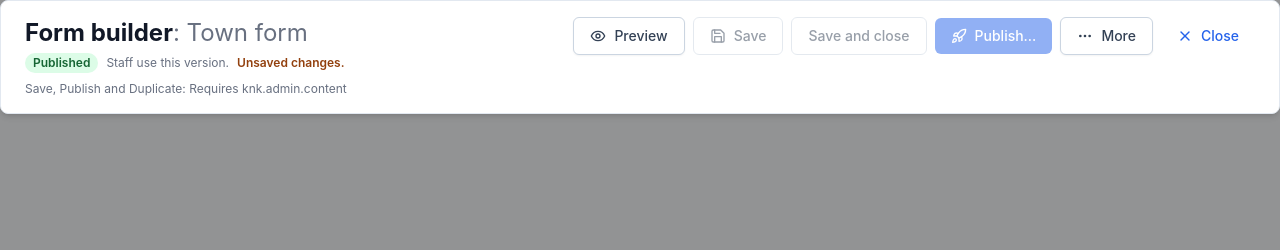
Test: a missing write node disables the writes with the node, once
This screenshot has width=1280, height=250.
Expected: the button "Save" is disabled, left=693, top=17, right=784, bottom=55
Expected: the button "Preview" is enabled, left=573, top=17, right=685, bottom=55
Click the button "More" at (1107, 36), box left=1060, top=17, right=1153, bottom=55
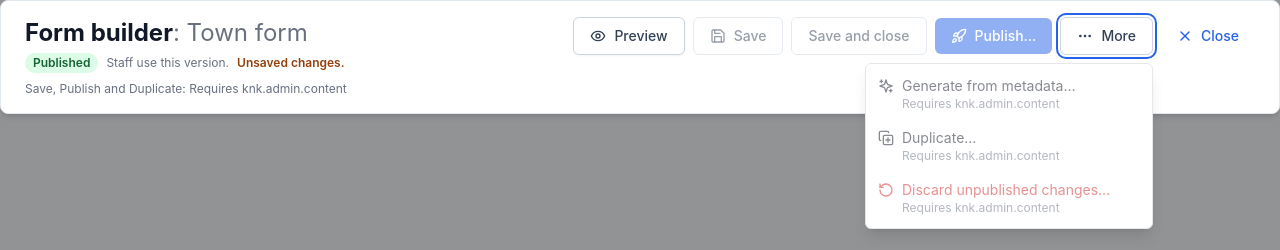
Expected: the menu item "Duplicate… Requires knk.admin.content" is disabled, left=866, top=120, right=1152, bottom=172
Expected: the menu item "Generate from metadata… Requires knk.admin.content" is shown, left=866, top=68, right=1152, bottom=120
